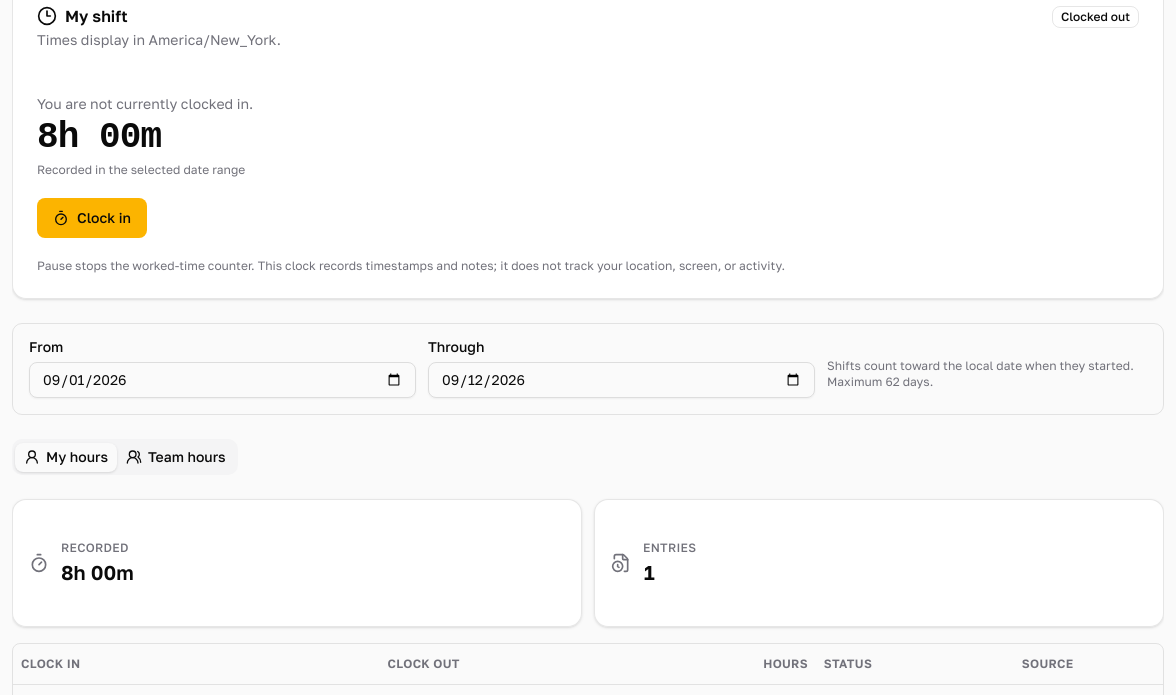
Scenario: TimeAttendancePage › shows team review and payroll export only to attendance managers
The image size is (1176, 695).
Click the tab "Team hours". click: (176, 457)
box: top-left (117, 442), bottom-right (235, 472)
(page scrolled)
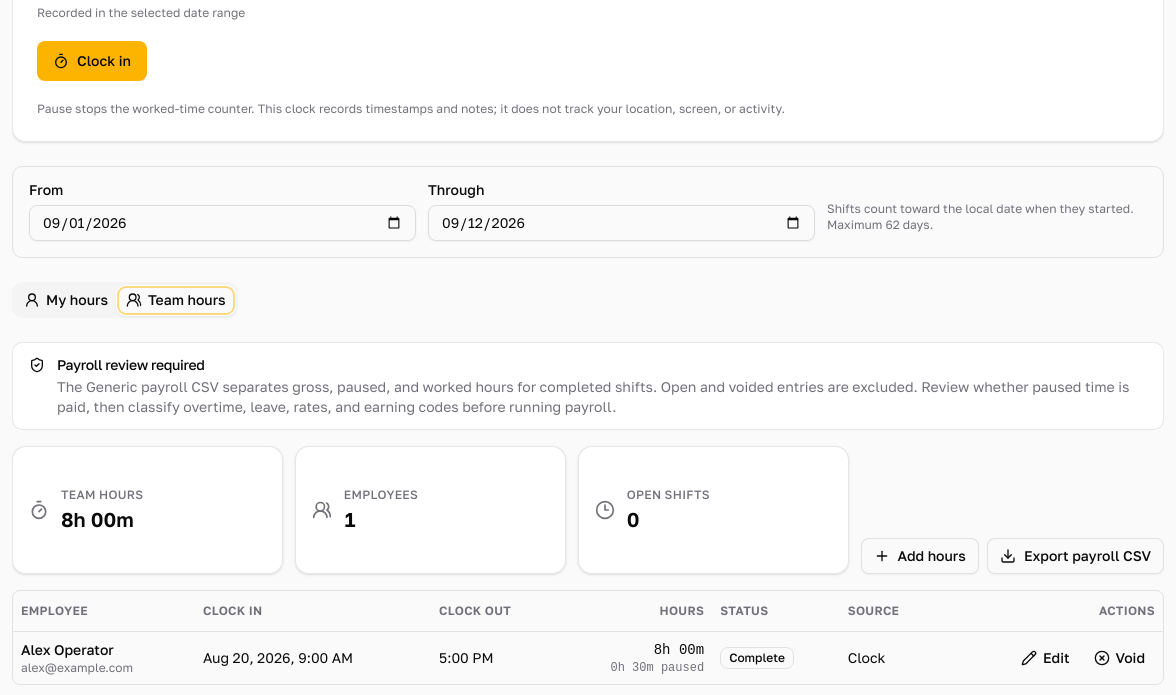
Result: the text "Generic payroll CSV separates gross, paused, and worked hours" is shown at top-left (57, 378), bottom-right (1129, 415)
Result: the button "Export payroll CSV" is enabled at top-left (987, 538), bottom-right (1164, 574)
